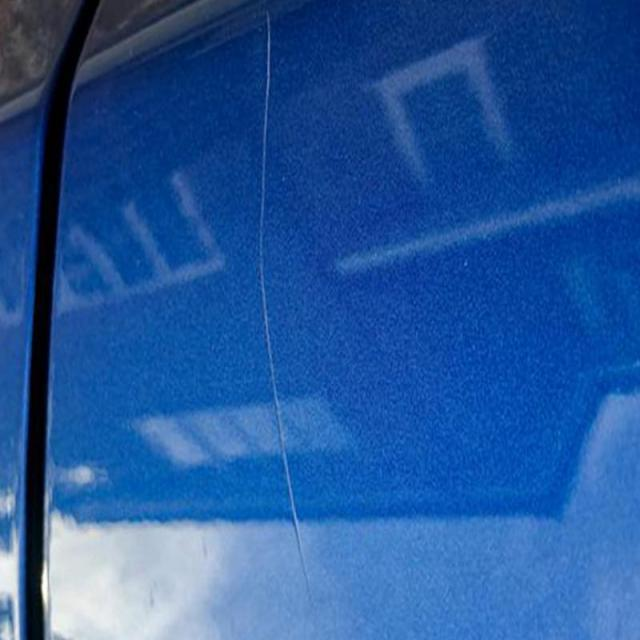scratch: (256, 8, 310, 586)
